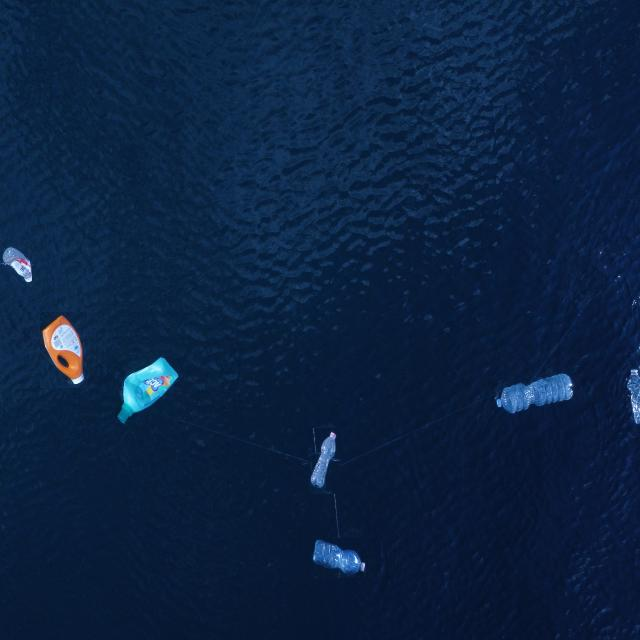bottles: (115, 355, 181, 427), (493, 367, 575, 418), (40, 312, 87, 388), (310, 538, 367, 578), (308, 428, 340, 494), (0, 240, 32, 287), (623, 362, 640, 429)
